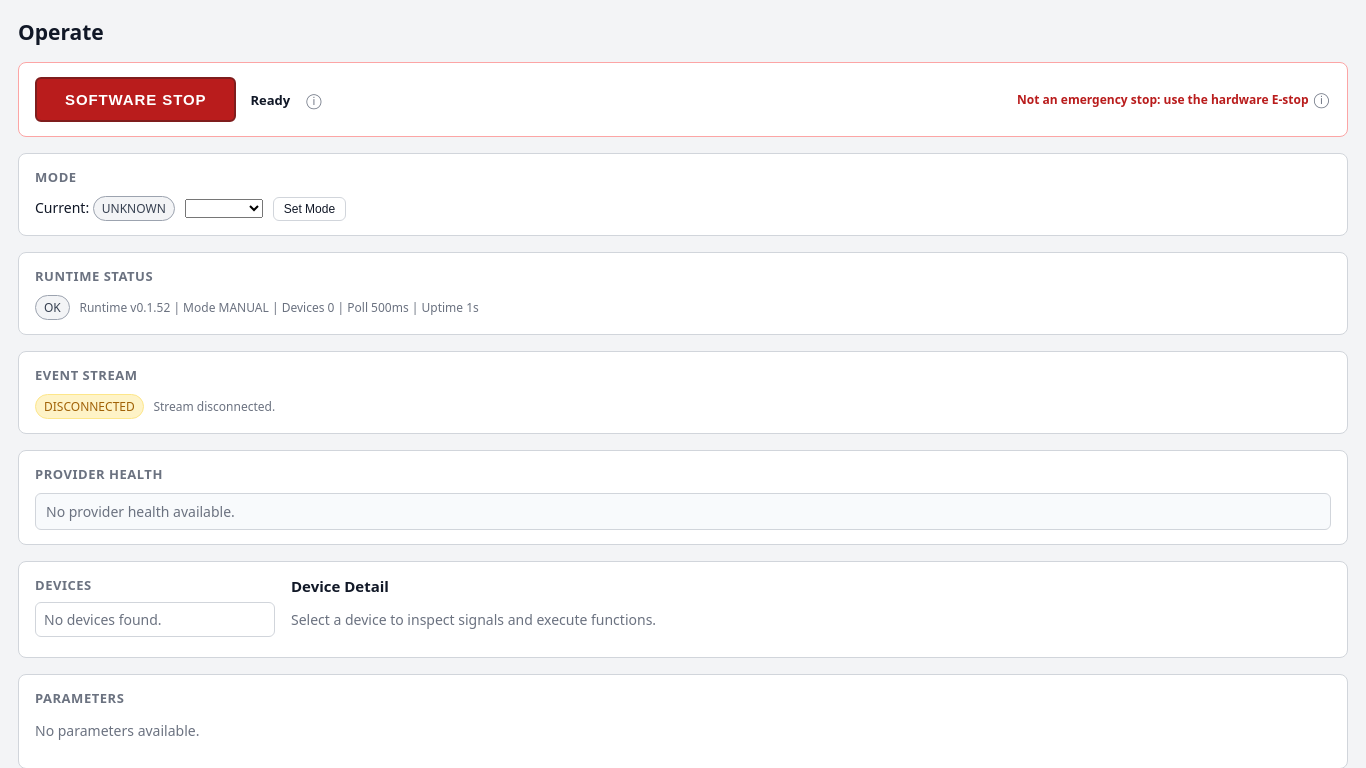
Test: Operate.svelte — the software stop card is one row (#613) › under setpoints: Ready in the row, the rung behind its ⓘ
Expected: the text with test id "estop-state" reads "Ready", [250, 90, 290, 108]
Expected: the text "Latches actuation, then drives the declared safe setpoints" is not shown
What coordinates should you click on to do the following:
click the button named "About the software stop"
I would click on:
 (314, 100)
Its box is [304, 92, 324, 107].
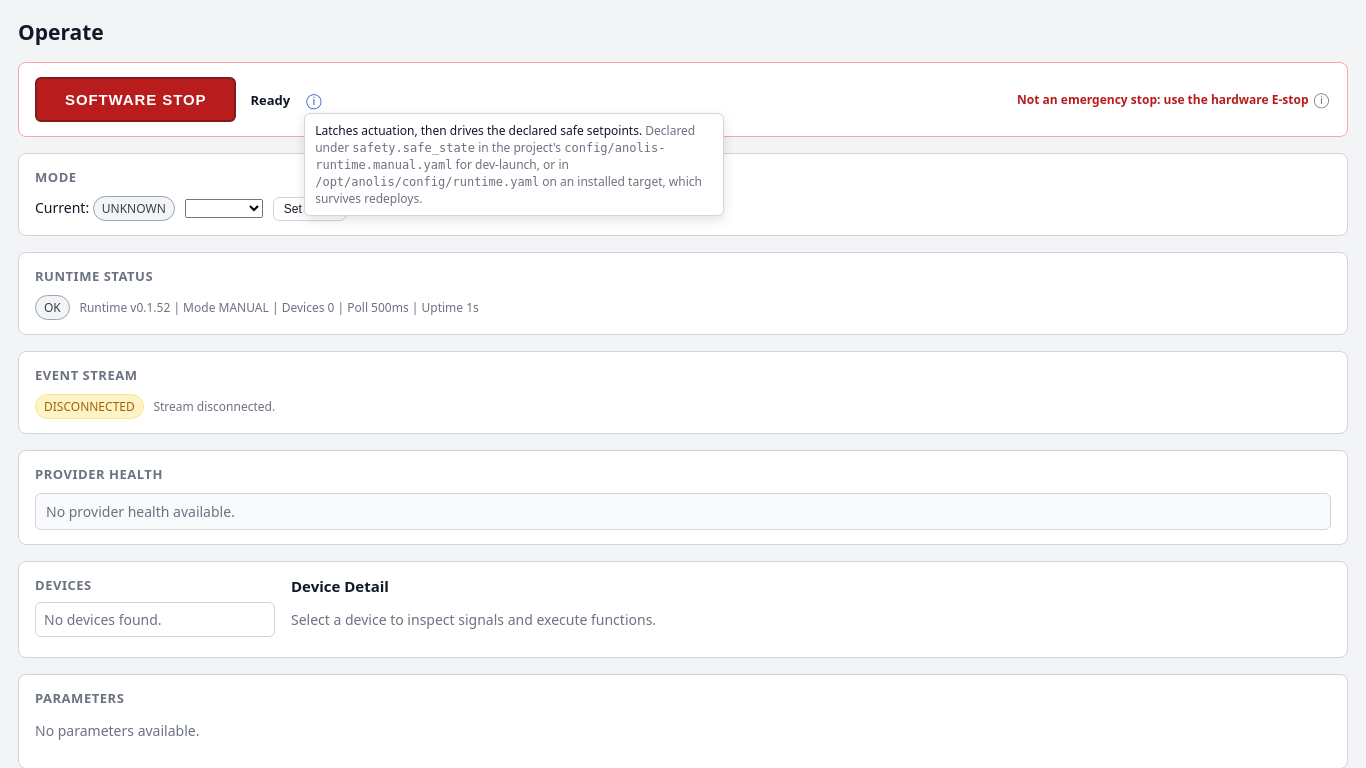
Now the text "Latches actuation, then drives the declared safe setpoints" is shown, box [315, 122, 642, 139]
Now the element with test id "safe-state-fix" is shown, box [315, 122, 702, 207]
